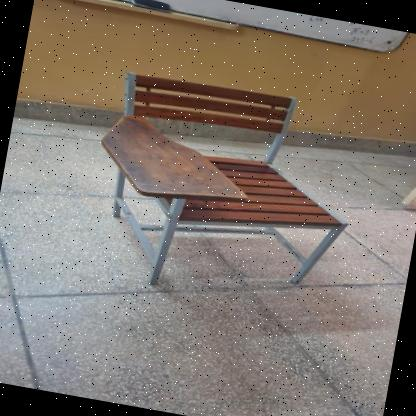chair: (82, 59, 376, 323)
